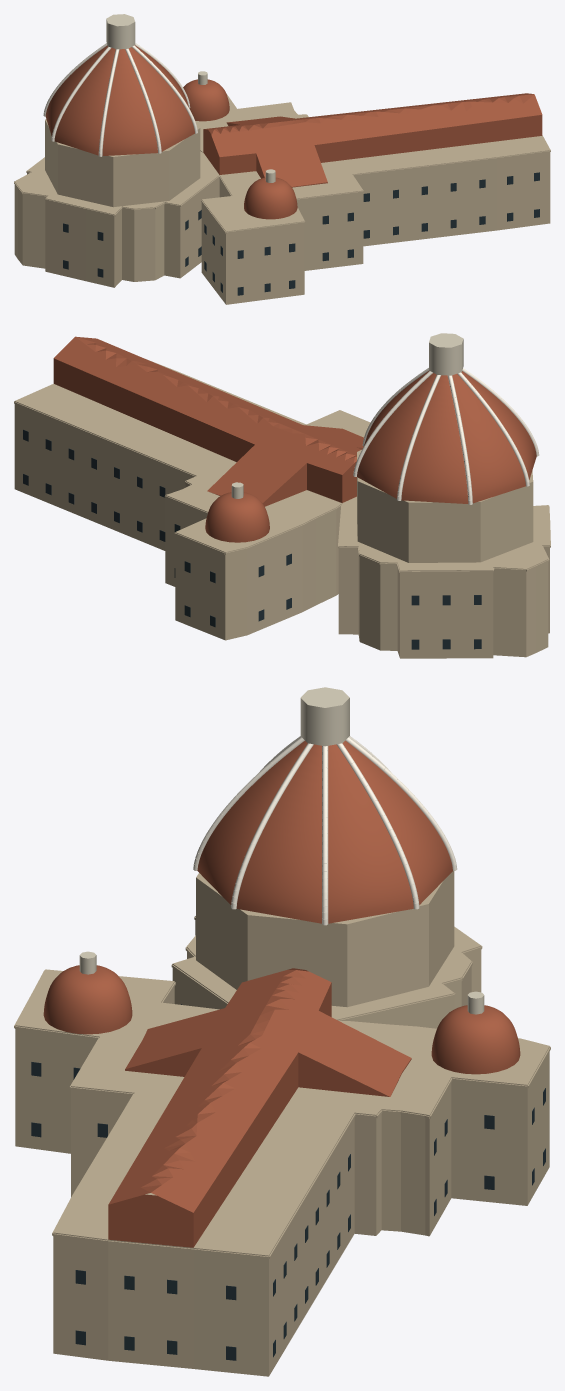
Rendered from medici-chapels.glb.
The picture shows the model from 3 angles, top to bottom: view 1: azimuth 30°, elevation 25°; view 2: azimuth 150°, elevation 25°; view 3: azimuth 270°, elevation 25°; orthographic projection. The views are drawn at different scales.
Parts seen in each view (by area): view 1: primary-envelope, san-lorenzo-nave, princes-dome, princes-drum, sacristy-dome, princes-dome-rib, window-rhythm, cornice, princes-lantern; view 2: primary-envelope, san-lorenzo-nave, princes-dome, princes-drum, princes-dome-rib, sacristy-dome, window-rhythm, cornice, princes-lantern; view 3: primary-envelope, san-lorenzo-nave, princes-dome, princes-drum, sacristy-dome, princes-dome-rib, cornice, window-rhythm, princes-lantern.
Boxes of the visible parts, bbox=[...] form: primary-envelope: bbox=[14, 95, 550, 304]; san-lorenzo-nave: bbox=[203, 93, 542, 187]; princes-dome: bbox=[45, 45, 194, 155]; princes-drum: bbox=[45, 119, 200, 207]; sacristy-dome: bbox=[183, 79, 297, 219]; princes-dome-rib: bbox=[43, 43, 197, 156]; window-rhythm: bbox=[63, 172, 539, 295]; cornice: bbox=[14, 93, 550, 233]; princes-lantern: bbox=[106, 14, 135, 49]; primary-envelope: bbox=[14, 359, 549, 658]; san-lorenzo-nave: bbox=[53, 336, 363, 506]; princes-dome: bbox=[357, 370, 536, 503]; princes-drum: bbox=[357, 450, 533, 562]; princes-dome-rib: bbox=[353, 368, 539, 504]; sacristy-dome: bbox=[205, 492, 269, 542]; window-rhythm: bbox=[23, 429, 481, 649]; cornice: bbox=[14, 401, 550, 573]; princes-lantern: bbox=[429, 333, 463, 375]; primary-envelope: bbox=[15, 916, 549, 1376]; san-lorenzo-nave: bbox=[108, 968, 411, 1247]; princes-dome: bbox=[197, 740, 452, 923]; princes-drum: bbox=[196, 871, 454, 1007]; sacristy-dome: bbox=[43, 965, 520, 1074]; princes-dome-rib: bbox=[193, 736, 457, 925]; cornice: bbox=[14, 916, 550, 1259]; window-rhythm: bbox=[31, 1004, 545, 1360]; princes-lantern: bbox=[300, 687, 349, 746].
Size of the model in its own units: 16 by 7.43 by 9.62.
